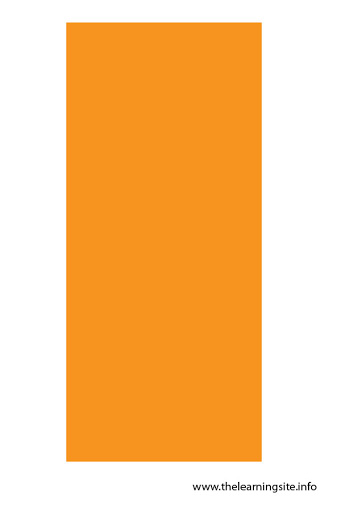rectangulo: (65, 21, 263, 462)
